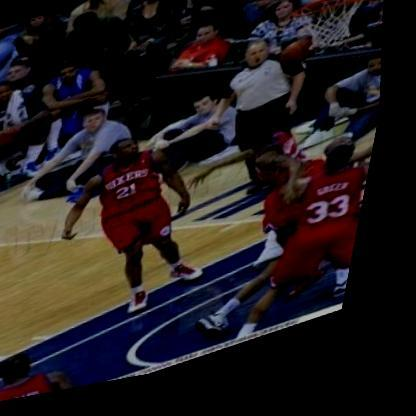basketball: (279, 41, 326, 85)
